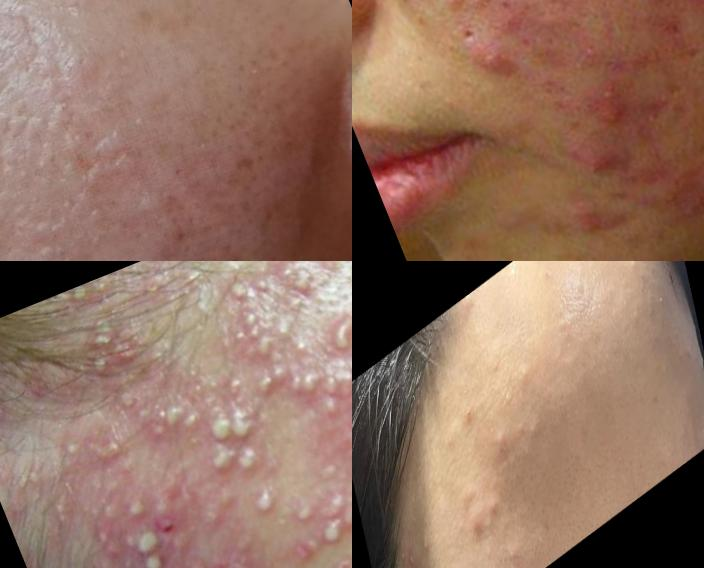flat_wart: (58, 128, 153, 262), (13, 1, 104, 133), (1, 106, 67, 254), (1, 229, 109, 262)
papular: (450, 22, 532, 99), (548, 189, 634, 262), (574, 78, 645, 144), (563, 130, 633, 189), (58, 281, 103, 319)
purulent: (71, 308, 143, 386), (78, 418, 150, 482), (41, 418, 100, 476), (221, 262, 281, 317), (236, 473, 294, 529), (152, 387, 210, 443), (9, 448, 62, 501), (37, 489, 89, 542), (274, 262, 329, 310), (276, 526, 333, 568), (229, 295, 277, 343), (240, 327, 290, 373), (196, 442, 243, 490), (114, 483, 162, 530), (282, 490, 330, 535), (127, 521, 174, 566), (313, 476, 353, 526), (309, 510, 353, 555), (227, 438, 271, 480), (310, 387, 353, 428), (321, 316, 353, 357), (132, 545, 176, 568), (337, 422, 353, 471)
sebo-crystan-conglo: (254, 348, 329, 415), (197, 402, 268, 459), (309, 334, 353, 407), (173, 544, 222, 568)
whitehead: (506, 336, 548, 400), (483, 421, 512, 468), (122, 107, 158, 143), (182, 133, 216, 166), (412, 526, 438, 566), (526, 413, 546, 459), (484, 488, 506, 529), (498, 538, 523, 568), (620, 262, 647, 286), (443, 557, 473, 568)
